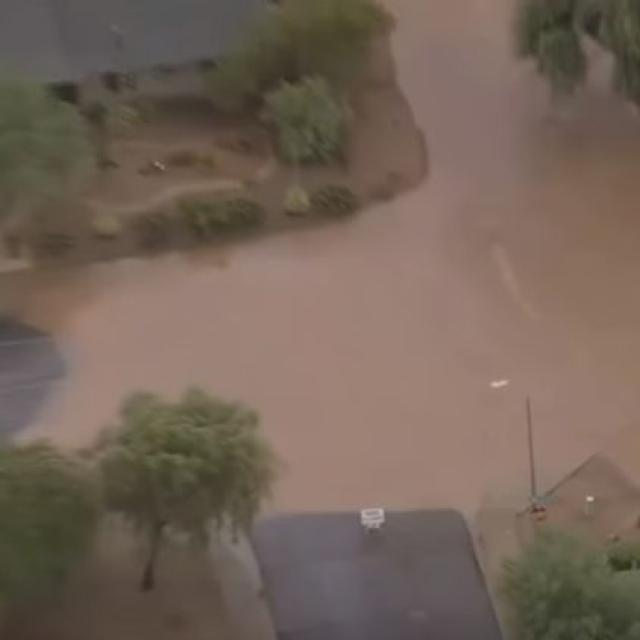flooded_areas: (44, 6, 631, 459)
